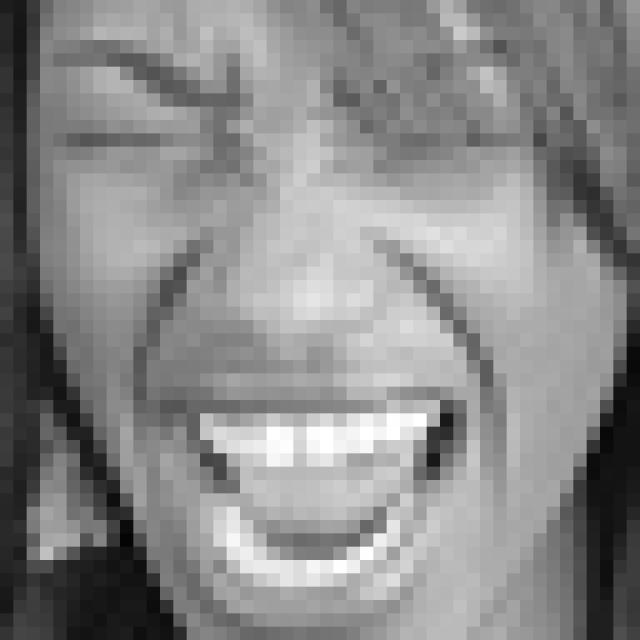angry: (63, 37, 551, 640)
